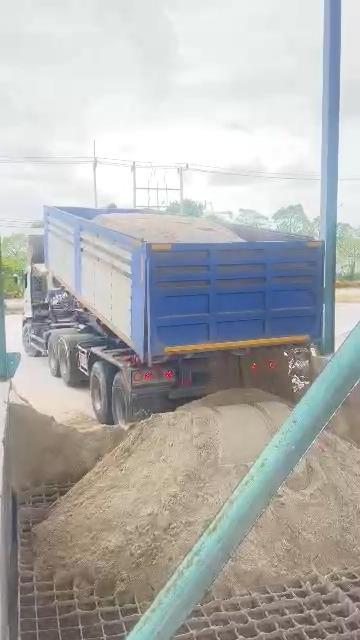sand: (35, 389, 289, 601), (215, 432, 360, 594), (7, 392, 124, 491), (214, 346, 311, 400), (95, 213, 241, 242), (332, 381, 360, 447)
